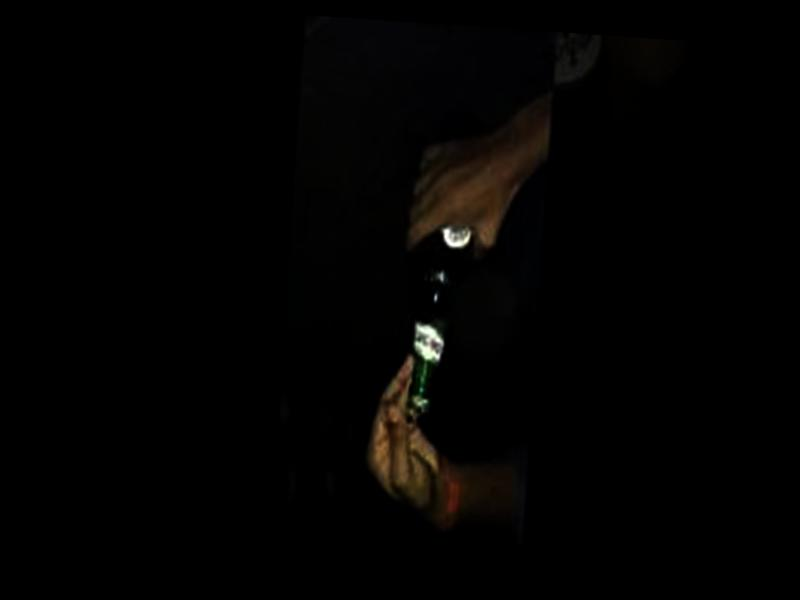Beer: (400, 111, 494, 416)
